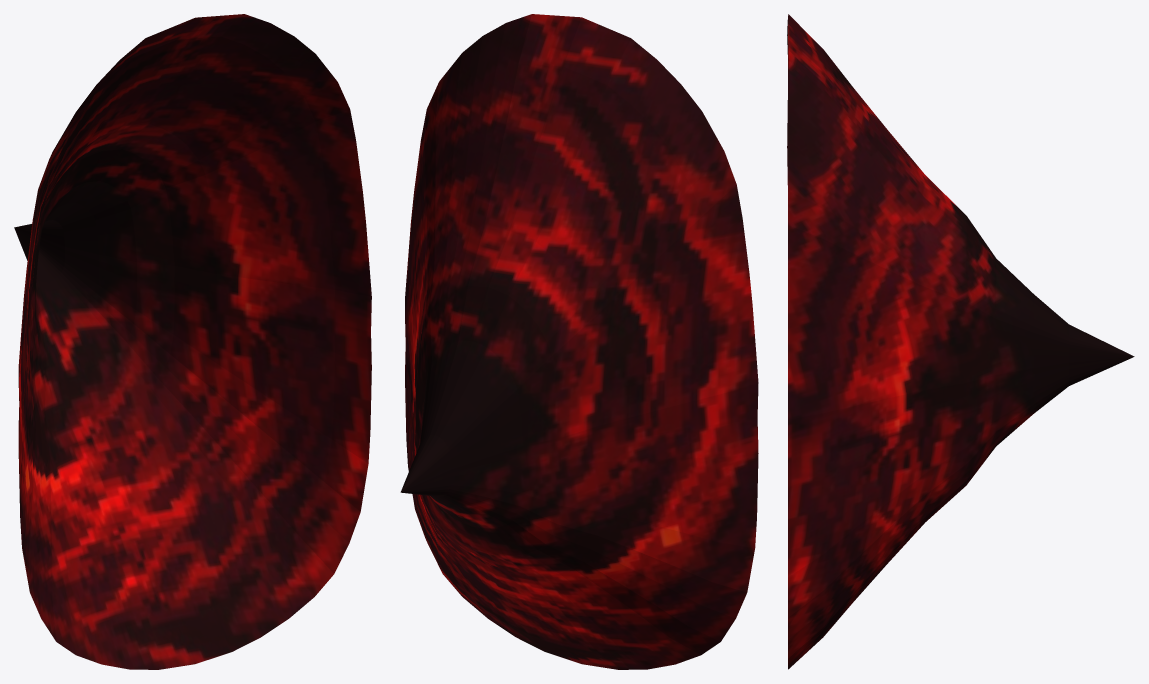
File: CaminoPortal.fbx
The picture shows the model from 3 angles, left to right: view 1: azimuth 30°, elevation 25°; view 2: azimuth 150°, elevation 25°; view 3: azimuth 270°, elevation 25°; orthographic projection. The views are drawn at different scales.
Visible parts, largest first — view 1: Camino Portal; view 2: Camino Portal; view 3: Camino Portal.
Boxes of the visible parts, box(x1,y1,x2,y2) form: Camino Portal: box(14, 14, 371, 669); Camino Portal: box(400, 14, 758, 669); Camino Portal: box(787, 14, 1134, 669).
Size of the model in its own units: 2094 by 1865 by 3663.
Materials: 1 (1 with a texture image).
